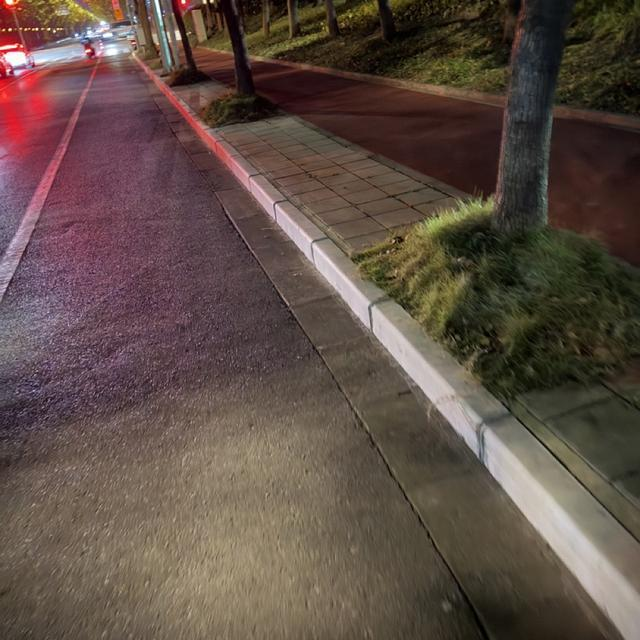curb: (141, 63, 639, 639), (291, 115, 470, 197), (250, 55, 505, 106), (556, 106, 639, 132), (197, 46, 233, 55)
